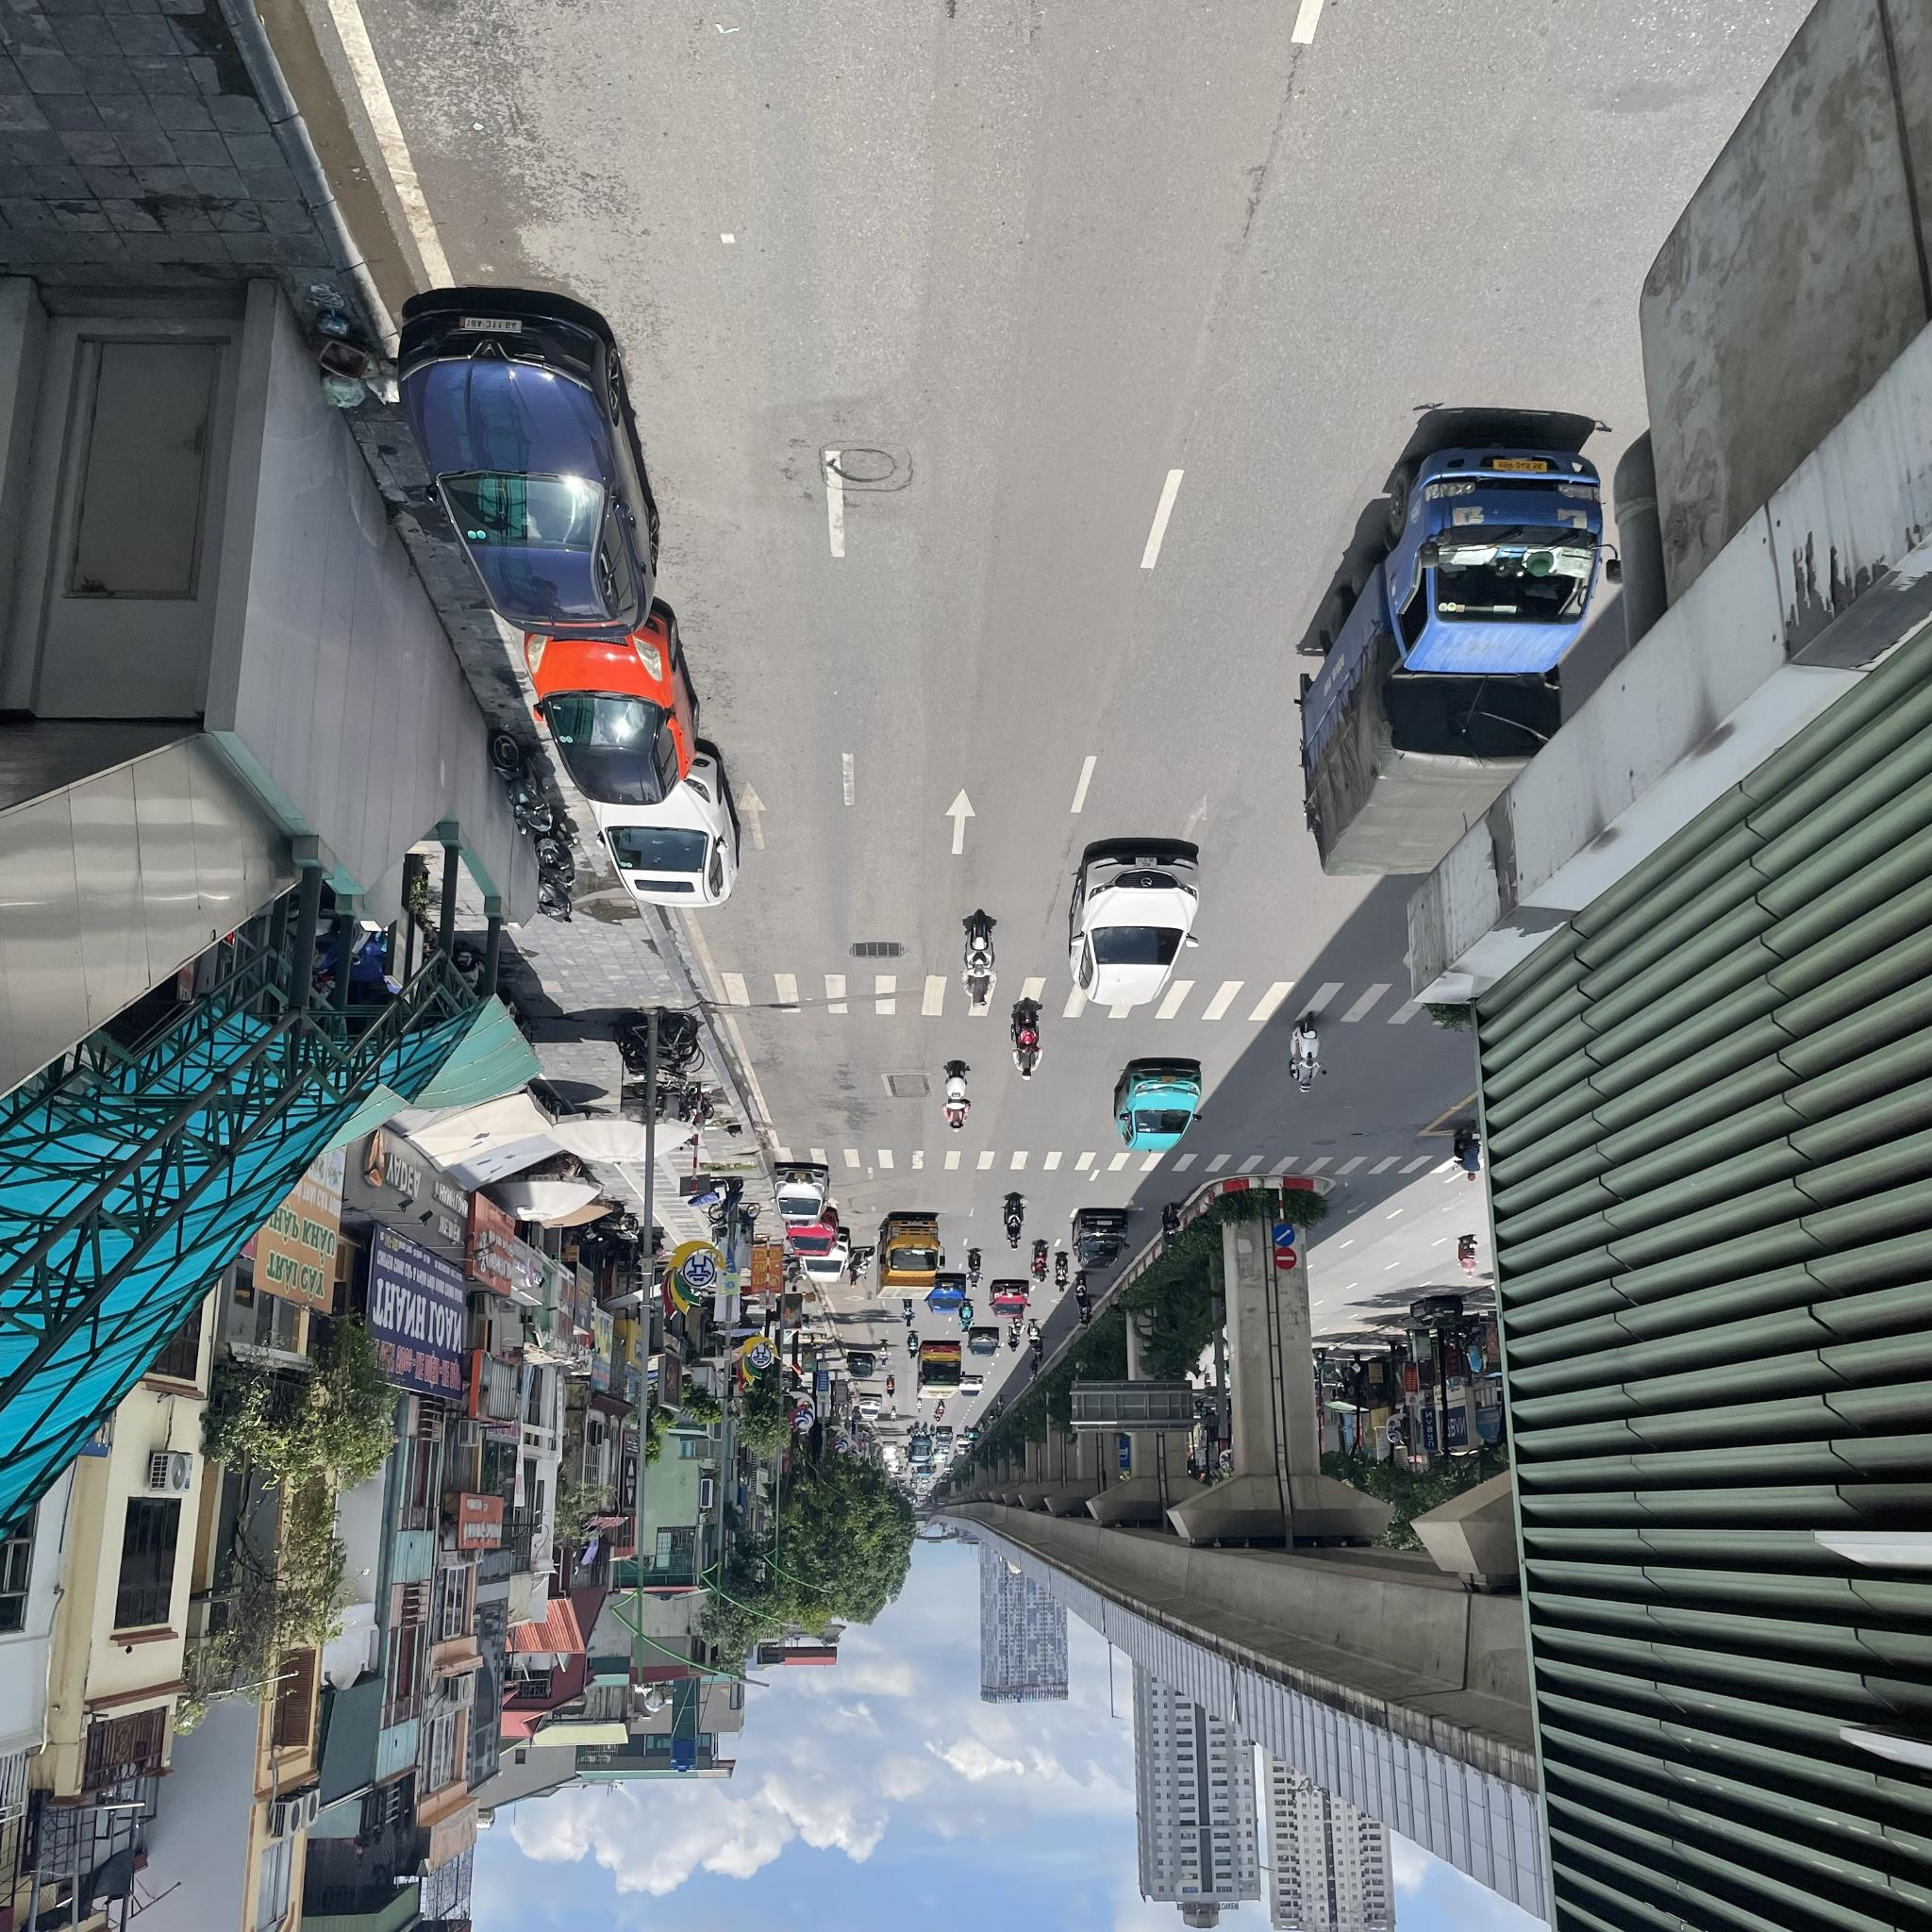car: (1305, 430, 1610, 868), (390, 286, 656, 648), (527, 615, 686, 798), (1070, 840, 1194, 1011), (605, 765, 732, 908), (1115, 1049, 1215, 1152), (875, 1215, 941, 1300), (1074, 1207, 1132, 1270), (773, 1169, 828, 1222), (799, 1228, 851, 1282), (918, 1340, 964, 1398), (785, 1208, 840, 1257), (991, 1281, 1031, 1317), (967, 1329, 1000, 1358)
motobike: (965, 904, 1003, 1011), (933, 1055, 980, 1136), (1291, 1013, 1335, 1094), (1012, 992, 1052, 1082), (1004, 1193, 1033, 1250), (1161, 1203, 1183, 1250), (1031, 1241, 1051, 1283), (968, 1252, 987, 1290), (1054, 1255, 1071, 1291), (1025, 1319, 1045, 1349), (957, 1306, 976, 1333), (900, 1303, 919, 1328), (1077, 1299, 1093, 1326), (1027, 1360, 1042, 1385), (1075, 1275, 1088, 1305), (1032, 1343, 1048, 1364), (1009, 1324, 1020, 1354), (907, 1334, 919, 1358), (884, 1373, 895, 1399), (879, 1341, 888, 1368)
